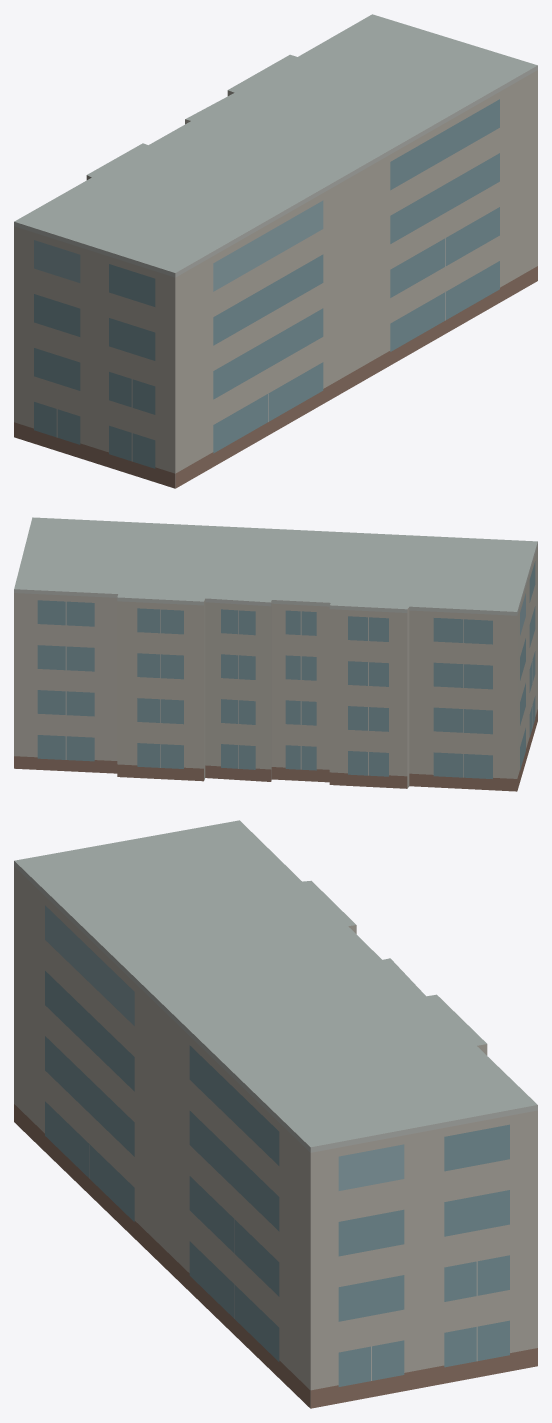
The model's file is survey-upis-32866367.glb.
3 views of the same model, one above another, from view 1: azimuth 30°, elevation 25°; view 2: azimuth 150°, elevation 25°; view 3: azimuth 270°, elevation 25° (orthographic). The views are drawn at different scales.
Parts seen in each view (by area): view 1: survey-upis-32866367.tmp; view 2: survey-upis-32866367.tmp; view 3: survey-upis-32866367.tmp.
Part boxes in pixels (x1,y1,x2,y2): survey-upis-32866367.tmp: (14,14,537,488); survey-upis-32866367.tmp: (14,517,537,791); survey-upis-32866367.tmp: (14,820,537,1408).
Bounding box in the file's own units: 30.88 × 11.5 × 20.9.
